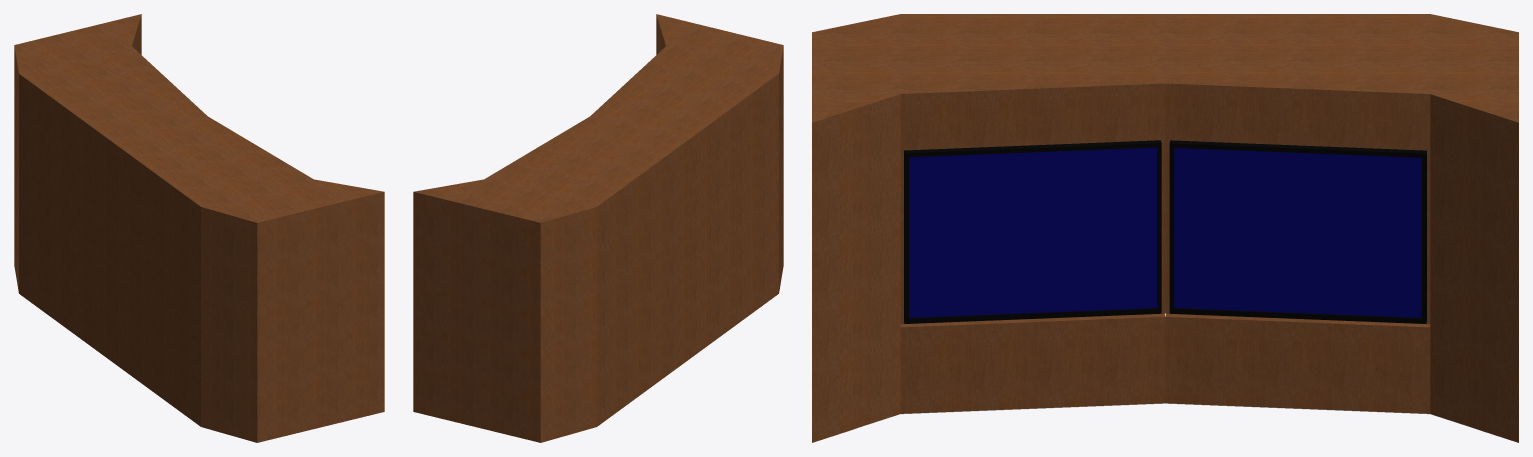
Rendered from hbxLiveTeachingWallFixed.dae.
The picture shows the model from 3 angles, left to right: view 1: azimuth 30°, elevation 25°; view 2: azimuth 150°, elevation 25°; view 3: azimuth 270°, elevation 25°; orthographic projection. The views are drawn at different scales.
Visible parts, largest first — view 1: skp3F9F; view 2: skp3F9F; view 3: skp3F9F (×5).
Part boxes in pixels (x1,y1,x2,y2): skp3F9F: (14, 14, 384, 442); skp3F9F: (413, 14, 783, 442); skp3F9F (×5): (812, 14, 1518, 442).
Size of the model in its own units: 279 by 767 by 383.
4 materials, 1 textured.
